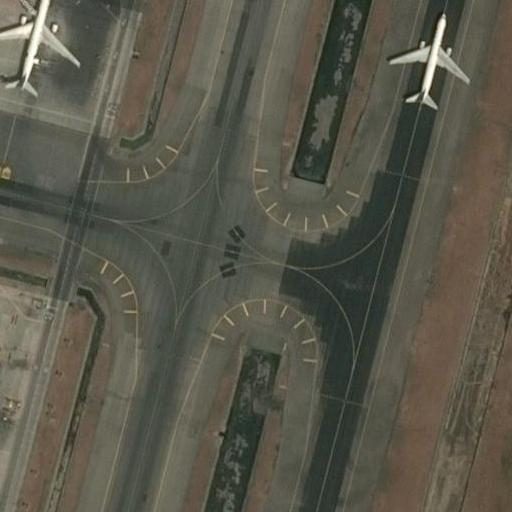Aircraft: (385, 13, 474, 111), (0, 0, 86, 94)
